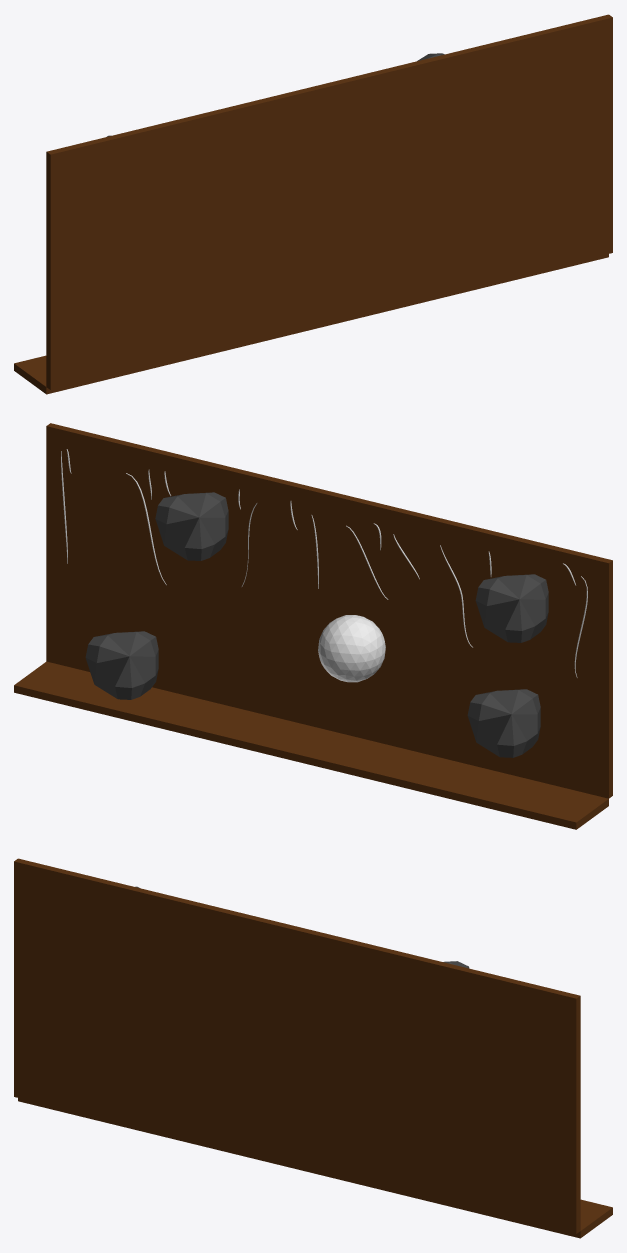
Rendered from Dirt_Platform2.fbx.
3 views of the same model, one above another, from view 1: azimuth 30°, elevation 25°; view 2: azimuth 150°, elevation 25°; view 3: azimuth 330°, elevation 25° (orthographic).
Parts seen in each view (by area): view 1: Cube.001; view 2: Cube.001, Cube.002, Cube.004, Cube.005, Cube.003, Icosphere, BezierCurve; view 3: Cube.001.
Boxes of the visible parts, x1,y1,x2,y2 form: Cube.001: [14, 14, 612, 394]; Cube.001: [14, 423, 612, 829]; Cube.002: [155, 492, 228, 560]; Cube.004: [467, 689, 540, 757]; Cube.005: [85, 631, 158, 699]; Cube.003: [475, 574, 548, 642]; Icosphere: [318, 615, 385, 682]; BezierCurve: [61, 449, 587, 677]; Cube.001: [14, 858, 612, 1238].
Size of the model in its own units: 2000 by 825 by 231.
